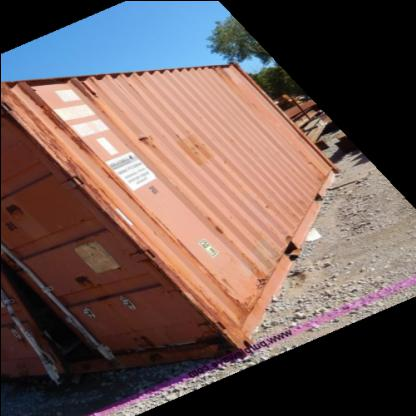Damage: (1, 84, 100, 192), (195, 212, 271, 276), (67, 259, 111, 309), (173, 126, 223, 164), (294, 149, 328, 183), (127, 122, 160, 150)
